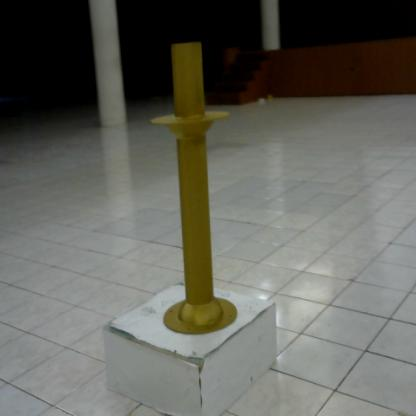pole: (148, 40, 243, 344)
